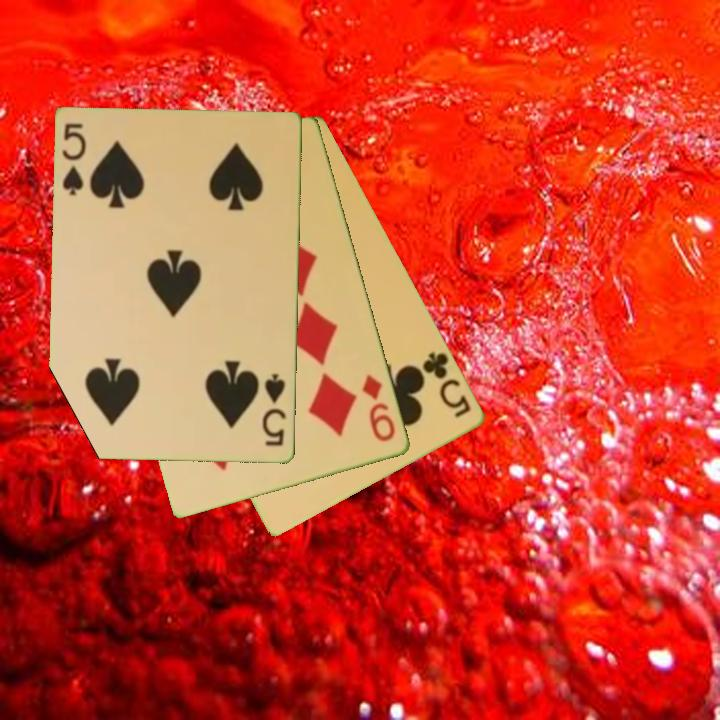5c: (416, 348, 475, 421)
5s: (259, 371, 289, 450), (59, 120, 89, 199)
9d: (359, 370, 399, 445)
